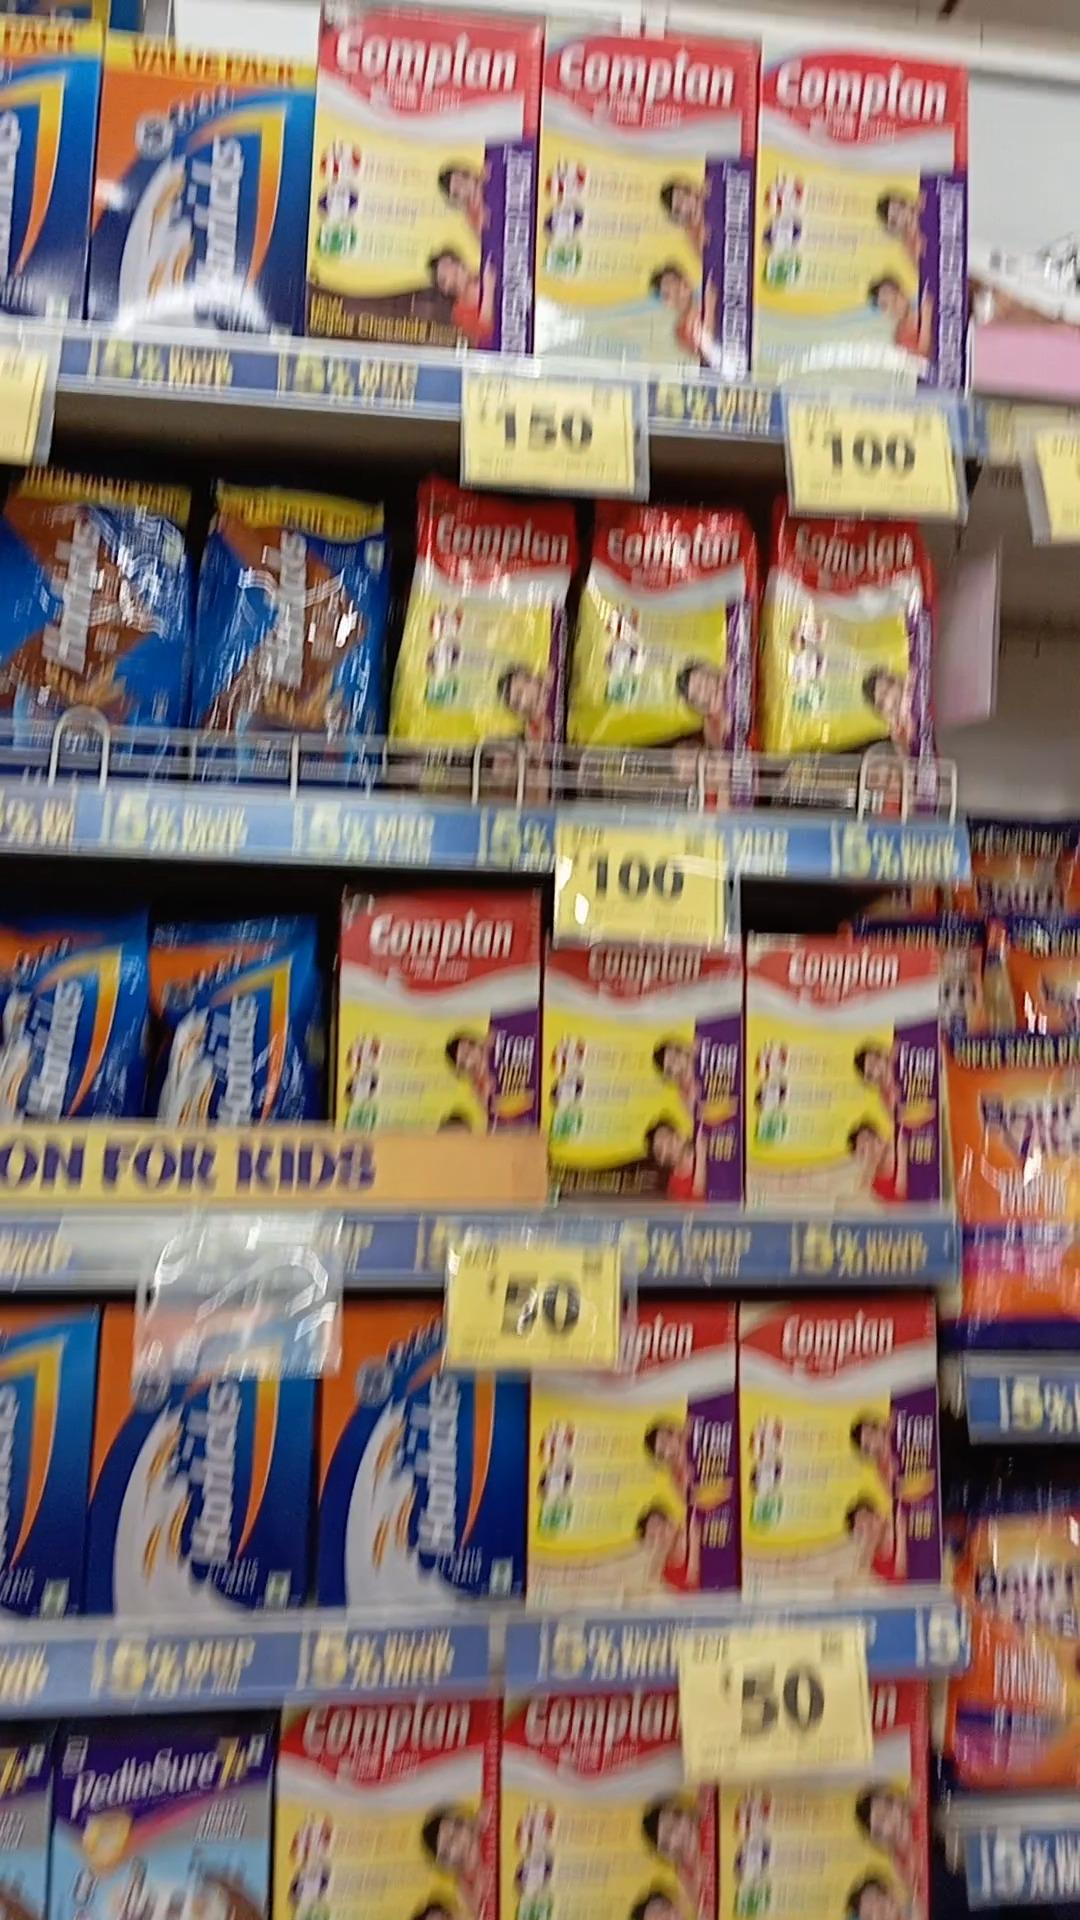COMPLAN_CHOCOLATE_500_GMS_PACK: (320, 8, 531, 359), (542, 938, 738, 1208)
COMPLAN_CREAMY_CLASSIC_500_G_PACK: (758, 53, 971, 393), (546, 38, 748, 375), (752, 935, 943, 1207)
COMPLAN_KESAR_BADAM_500_GMS_PACK: (741, 1298, 945, 1590), (533, 1308, 733, 1606)
COMPLAN_RC_POUCH_700_GMS_12: (761, 513, 953, 823), (394, 488, 567, 807), (576, 500, 754, 799)
HORLICK_CHOCOLATE_750_G_POUCH: (198, 488, 382, 778), (4, 483, 189, 770)
HORLICK_CLASSIC_MALT_500_G_PACK: (95, 1305, 310, 1606), (316, 1308, 522, 1606), (99, 38, 297, 339)
HORLICK_CLASSIC_MALT_750_G_POUCH: (146, 911, 322, 1122), (1, 920, 141, 1121)
